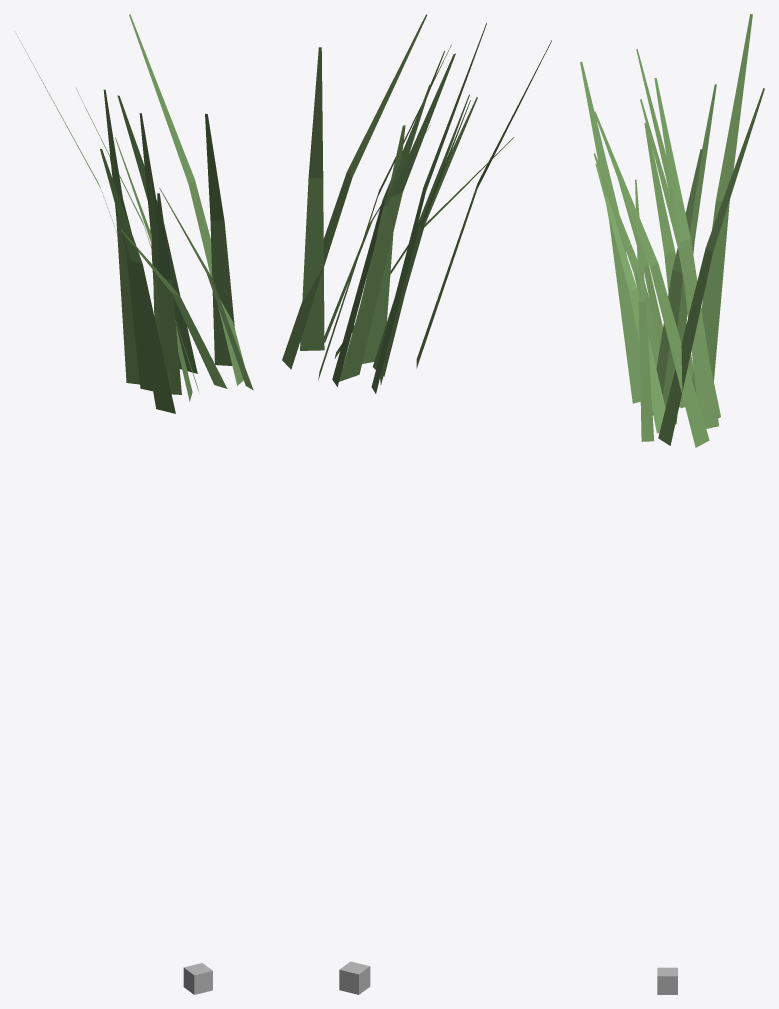
The model's file is rv_grass_tuft.gltf.
3 views of the same model, side by side, from view 1: azimuth 30°, elevation 25°; view 2: azimuth 150°, elevation 25°; view 3: azimuth 270°, elevation 25° (orthographic). The views are drawn at different scales.
Visible parts, largest first — view 1: RV_GrassTuft; view 2: RV_GrassTuft; view 3: RV_GrassTuft.
Boxes of the visible parts, left/top/right/bottom form: RV_GrassTuft: left=16, top=14, right=253, bottom=994; RV_GrassTuft: left=282, top=14, right=551, bottom=994; RV_GrassTuft: left=580, top=14, right=764, bottom=994.
Bounding box in the file's own units: 0.2118 × 0.979 × 0.18.
